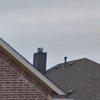Chimney: (28, 38, 50, 73)
